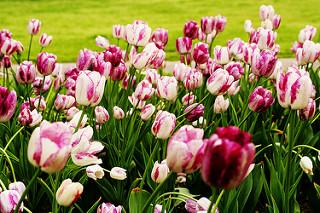tulip: (203, 125, 252, 189), (28, 121, 72, 171), (167, 124, 205, 172), (276, 67, 312, 109), (75, 69, 105, 106), (250, 45, 278, 74), (56, 178, 84, 204), (247, 86, 275, 111), (152, 110, 176, 137), (127, 20, 151, 44), (207, 70, 232, 92), (36, 52, 57, 76), (157, 76, 178, 99), (16, 60, 36, 82), (151, 159, 170, 182), (134, 79, 154, 100), (104, 44, 122, 64), (194, 42, 210, 61), (174, 37, 192, 53), (201, 15, 214, 33), (110, 166, 126, 179), (28, 18, 40, 34), (39, 33, 53, 46)
